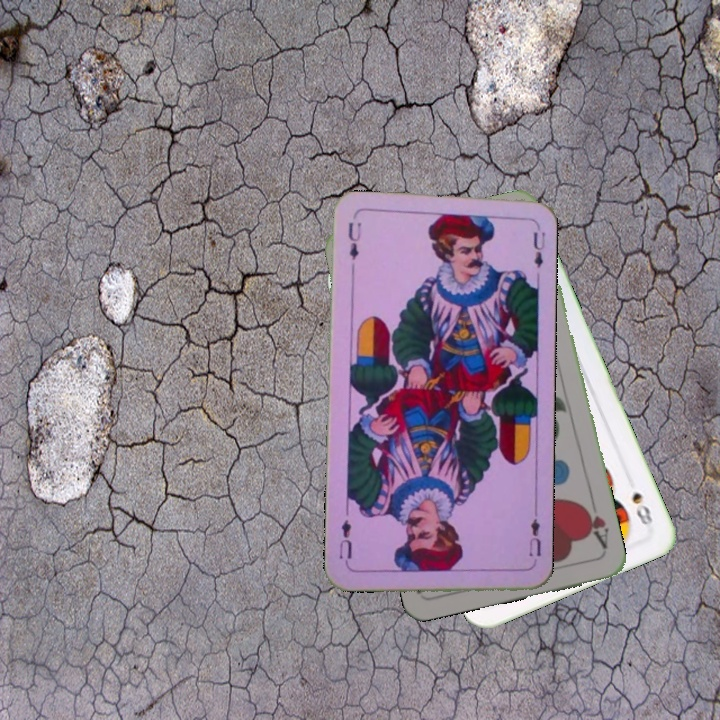EU: (525, 508, 543, 559), (344, 218, 363, 262)
HA: (578, 495, 611, 552)
S8: (628, 487, 657, 532)
